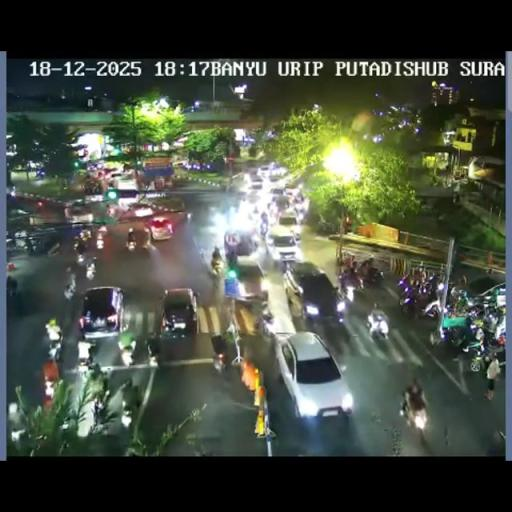Car: (274, 330, 352, 418), (283, 261, 343, 324), (115, 200, 184, 241), (78, 285, 126, 339), (158, 287, 200, 336), (266, 219, 304, 261), (470, 280, 506, 308), (65, 202, 94, 223), (257, 165, 275, 179), (247, 179, 264, 193), (269, 186, 286, 198)
Motorcycle: (398, 274, 442, 320), (438, 315, 478, 356), (400, 389, 430, 433), (477, 322, 505, 362), (8, 402, 26, 442), (366, 311, 389, 341), (339, 267, 363, 295), (246, 198, 270, 226), (6, 276, 22, 314), (76, 340, 95, 370), (360, 264, 384, 287), (448, 283, 470, 308), (487, 426, 505, 456), (258, 310, 276, 339), (46, 334, 64, 362), (464, 302, 486, 322), (119, 344, 135, 367), (333, 296, 347, 322), (212, 350, 227, 374), (429, 322, 444, 346), (317, 218, 338, 234), (293, 200, 307, 222), (74, 238, 88, 259), (210, 256, 224, 276), (24, 236, 38, 255), (85, 260, 97, 281), (226, 245, 238, 266), (46, 240, 61, 256), (63, 282, 75, 301), (44, 380, 54, 402), (268, 200, 278, 221), (148, 348, 158, 367), (142, 232, 152, 250), (290, 229, 301, 243), (95, 232, 104, 249), (126, 236, 136, 250), (259, 221, 268, 235), (221, 181, 229, 193)
